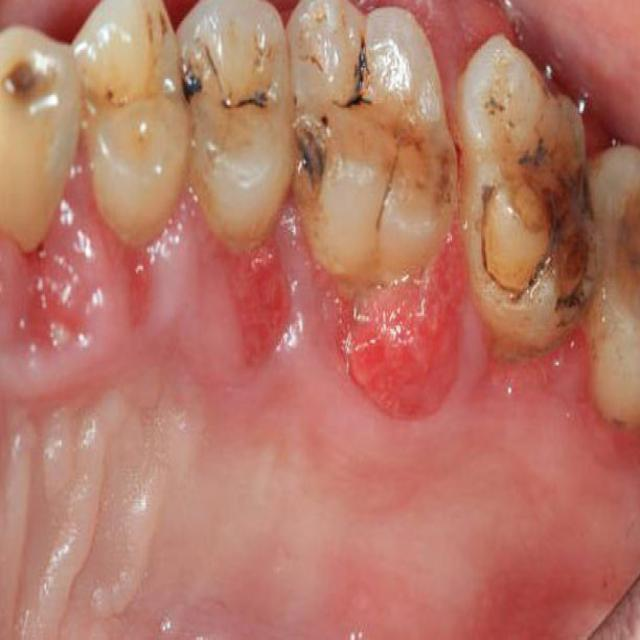caries: (473, 138, 610, 322), (171, 30, 232, 130), (396, 117, 453, 222), (289, 88, 338, 208), (333, 28, 389, 133), (0, 39, 55, 137), (227, 52, 277, 138)
